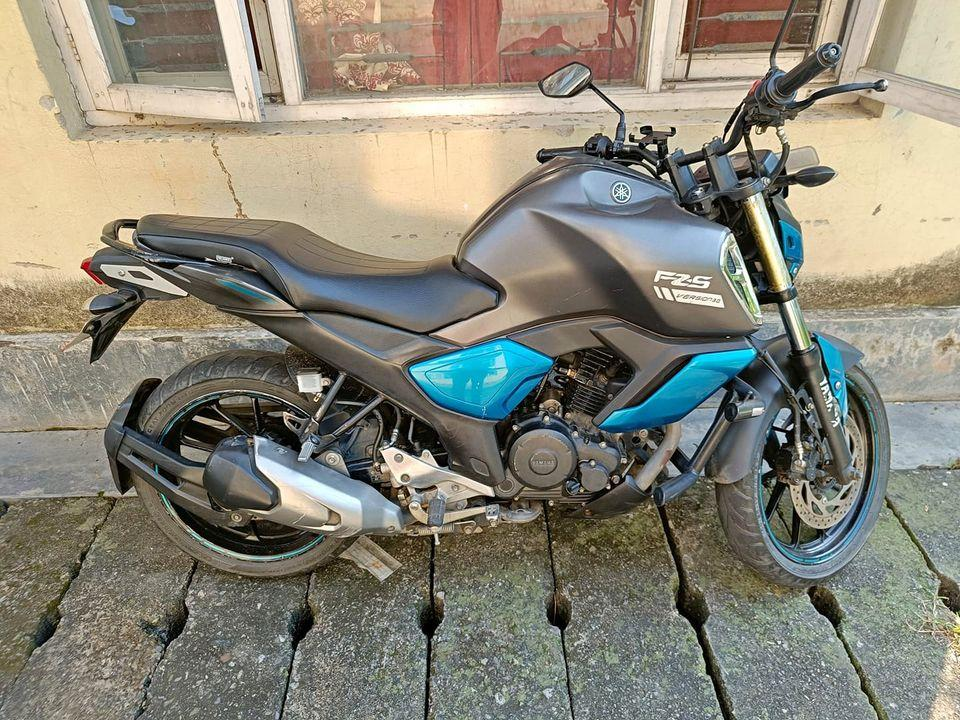bike: (67, 24, 907, 593)
